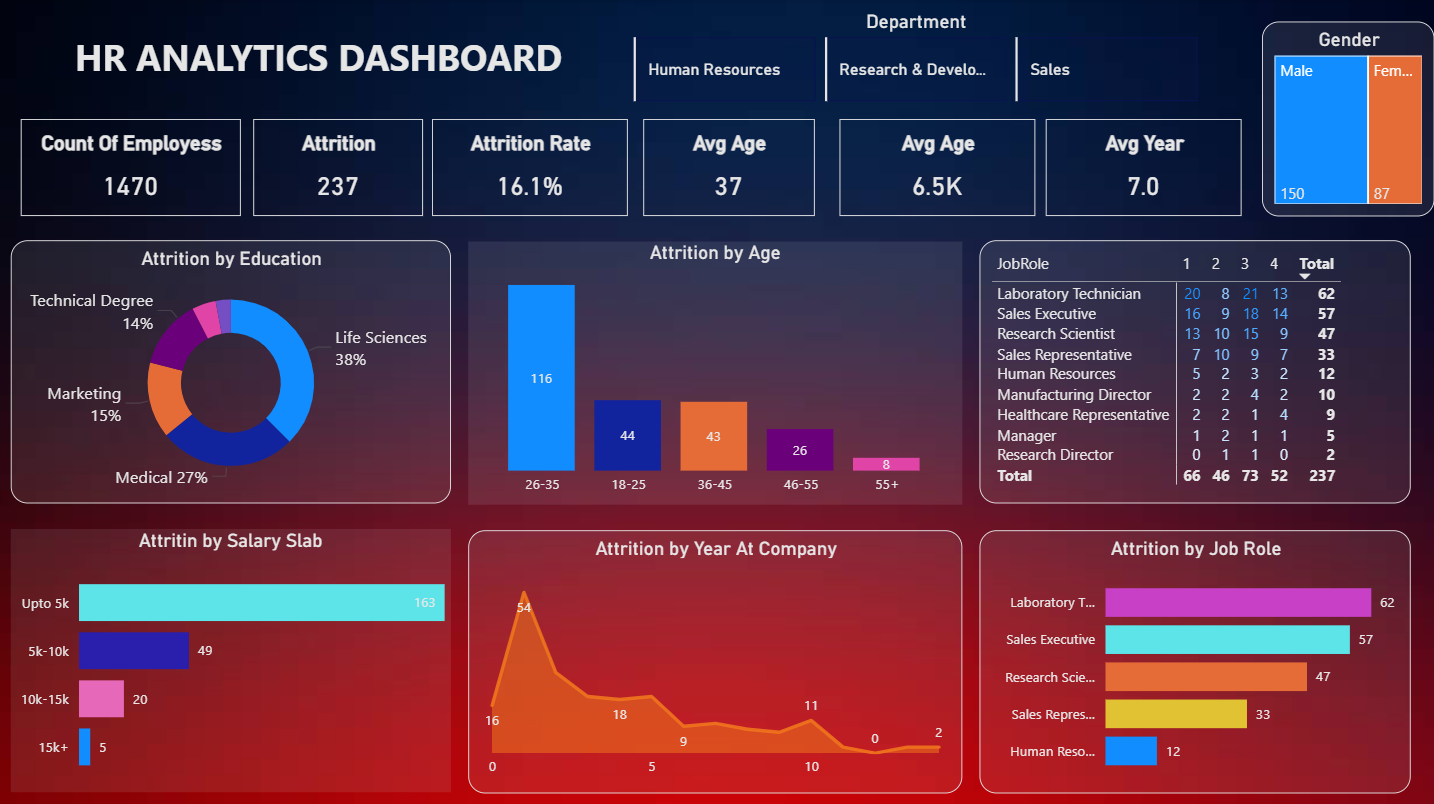

This screenshot's page, from the dashboard's own definition file:
{"tool":"powerbi","page":{"name":"Page 1","canvas":[1280,720],"ordinal":0},"visuals":[{"type":"card","title":"Count Of Employess","fields":{"Values":["CountNonNull(HR_Analytics.EmpID)"]},"box":[21.1,106.6,195.8,86.8],"z":0},{"type":"card","title":"Attrition","fields":{"Values":["Sum(HR_Analytics.AttritionCount)"]},"box":[228,106.6,151.2,86.8],"z":1000},{"type":"card","title":"Attrition Rate","fields":{"Values":["HR_Analytics.AttritionRate"]},"box":[387.9,106.6,174.7,86.8],"z":2000},{"type":"card","title":"Avg Age","fields":{"Values":["Avg(HR_Analytics.Age)"]},"box":[575.1,106.6,152.4,86.8],"z":3000},{"type":"card","title":"Avg Year","fields":{"Values":["Avg(HR_Analytics.YearsAtCompany)"]},"box":[934.5,106.6,174.7,86.8],"z":4000},{"type":"card","title":"Avg Age","fields":{"Values":["Avg(HR_Analytics.MonthlyIncome)"]},"box":[749.8,106.6,174.7,86.8],"z":5000},{"type":"donutChart","title":"Attrition by Education","fields":{"Category":["HR_Analytics.EducationField"],"Y":["Sum(HR_Analytics.AttritionCount)"]},"box":[12.4,214.4,391.6,234.2],"z":6000},{"type":"columnChart","title":"Attrition by Age","fields":{"Category":["HR_Analytics.AgeGroup"],"Y":["Sum(HR_Analytics.AttritionCount)"],"Series":["HR_Analytics.AgeGroup"]},"box":[420.1,215.6,440,234.2],"z":7000},{"type":"clusteredBarChart","title":"Attritin by Salary Slab","fields":{"Category":["HR_Analytics.SalarySlab"],"Y":["Sum(HR_Analytics.AttritionCount)"]},"box":[12.4,472.2,391.6,234.2],"z":8000},{"type":"areaChart","title":"Attrition by Year At Company","fields":{"Category":["HR_Analytics.YearsAtCompany"],"Y":["Sum(HR_Analytics.AttritionCount)"]},"box":[420.1,473.4,440,234.2],"z":9000},{"type":"treemap","title":"Gender","fields":{"Group":["HR_Analytics.Gender"],"Values":["Sum(HR_Analytics.AttritionCount)"]},"box":[1126.6,19.8,153.7,173.5],"z":10000},{"type":"advancedSlicerVisual","fields":{"Values":["HR_Analytics.Department"]},"box":[562.7,9.9,513.1,86.8],"z":11000},{"type":"textbox","box":[21.1,24.8,530.4,58.2],"z":12000},{"type":"clusteredBarChart","title":"Attrition by Job Role","fields":{"Y":["Sum(HR_Analytics.AttritionCount)"],"Category":["HR_Analytics.JobRole"]},"box":[875,473.4,384.2,234.2],"z":13000},{"type":"pivotTable","title":"Attritio by Age","fields":{"Values":["Sum(HR_Analytics.AttritionCount)"],"Rows":["HR_Analytics.JobRole"],"Columns":["HR_Analytics.JobSatisfaction"]},"box":[875,214.4,384.2,234.2],"z":14000}]}

Visuals, with their boxes in screenshot pixels (x1, y1, x2, y2), scaled from the page's 1280x720 canvas onto the 1434x804 screenshot:
"Count Of Employess" card: left=24, top=119, right=243, bottom=216
"Attrition" card: left=255, top=119, right=425, bottom=216
"Attrition Rate" card: left=435, top=119, right=630, bottom=216
"Avg Age" card: left=644, top=119, right=815, bottom=216
"Avg Year" card: left=1047, top=119, right=1243, bottom=216
"Avg Age" card: left=840, top=119, right=1036, bottom=216
"Attrition by Education" donutChart: left=14, top=239, right=453, bottom=501
"Attrition by Age" columnChart: left=471, top=241, right=964, bottom=502
"Attritin by Salary Slab" clusteredBarChart: left=14, top=527, right=453, bottom=789
"Attrition by Year At Company" areaChart: left=471, top=529, right=964, bottom=790
"Gender" treemap: left=1262, top=22, right=1433, bottom=216
advancedSlicerVisual - HR_Analytics.Department: left=630, top=11, right=1205, bottom=108
textbox: left=24, top=28, right=618, bottom=93
"Attrition by Job Role" clusteredBarChart: left=980, top=529, right=1411, bottom=790
"Attritio by Age" pivotTable: left=980, top=239, right=1411, bottom=501
